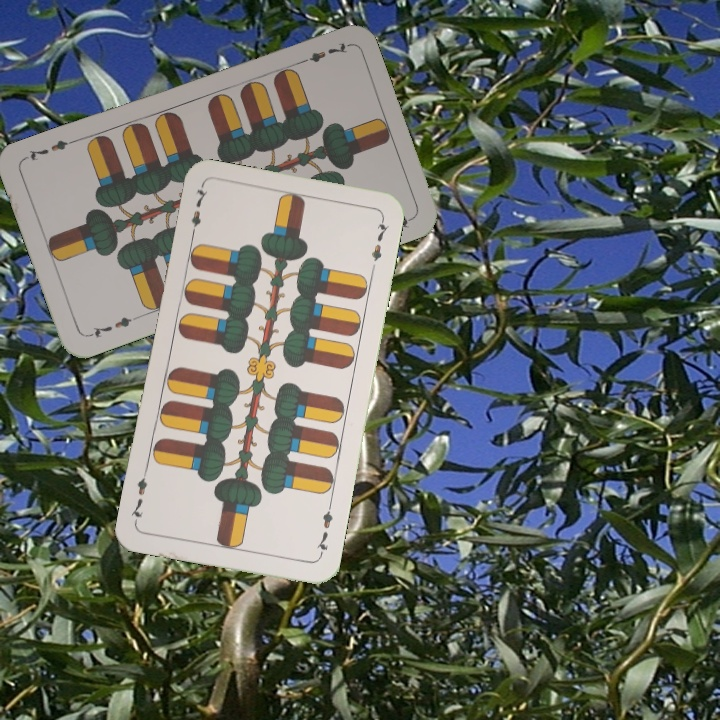E7: (294, 38, 351, 68), (84, 312, 134, 341), (312, 501, 336, 560), (187, 183, 210, 241)
